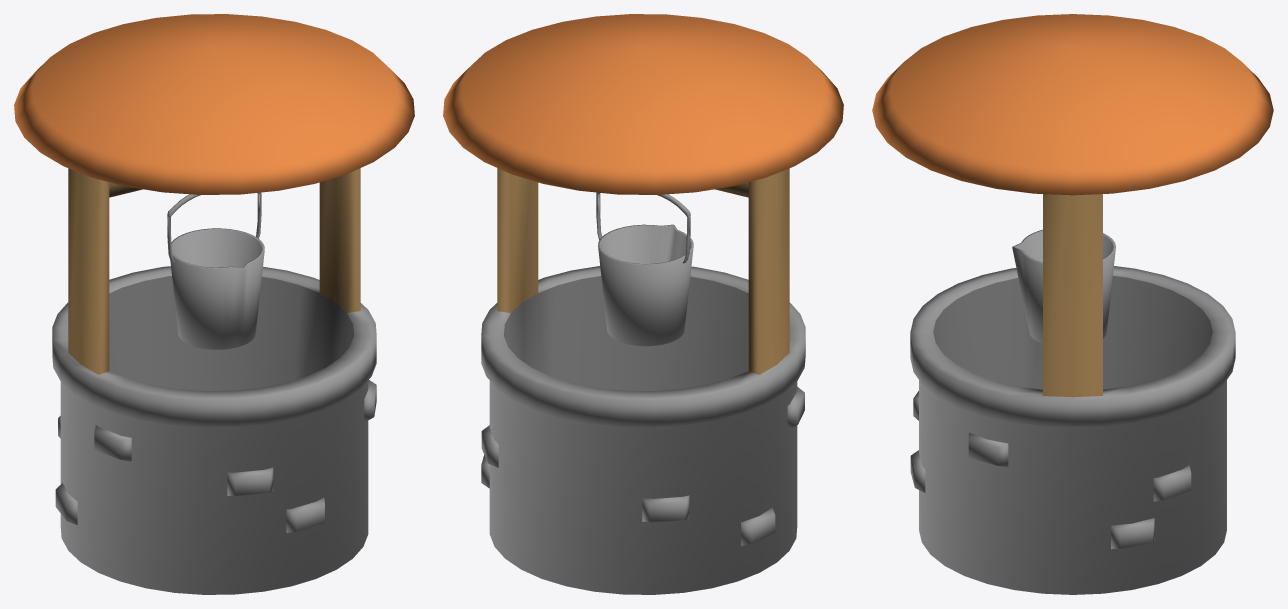
Rendered from Pozo.fbx.
3 views of the same model, side by side, from view 1: azimuth 30°, elevation 25°; view 2: azimuth 150°, elevation 25°; view 3: azimuth 270°, elevation 25° (orthographic).
Parts seen in each view (by area): view 1: Cylinder, Cylinder.001, Cylinder.002, Cube.009, Cube.008, Cube.007, Cube.004, Cube.001; view 2: Cylinder, Cylinder.001, Cylinder.002, Cube.003, Cube.004, Cube.001, Cube.007, Cube.005; view 3: Cylinder, Cylinder.001, Cylinder.002, Cube.002, Cube.006, Cube.005.
Part boxes in pixels (x1,y1,x2,y2): Cylinder: [52, 168, 376, 594]; Cylinder.001: [14, 14, 414, 194]; Cylinder.002: [170, 228, 264, 349]; Cube.009: [227, 467, 273, 496]; Cube.008: [286, 497, 324, 532]; Cube.007: [94, 425, 131, 461]; Cube.004: [55, 483, 77, 524]; Cube.001: [167, 192, 261, 263]; Cylinder: [481, 168, 805, 594]; Cylinder.001: [443, 14, 843, 194]; Cylinder.002: [598, 224, 693, 346]; Cube.003: [642, 495, 689, 522]; Cube.004: [741, 508, 775, 545]; Cube.001: [596, 192, 690, 263]; Cube.007: [787, 386, 804, 428]; Cube.005: [481, 425, 498, 467]; Cylinder: [910, 194, 1235, 594]; Cylinder.001: [872, 14, 1273, 195]; Cylinder.002: [1012, 229, 1115, 343]; Cube.002: [1111, 518, 1154, 549]; Cube.006: [968, 432, 1008, 466]; Cube.005: [1153, 465, 1191, 501].
Size of the model in its own units: 261 by 345 by 261.
